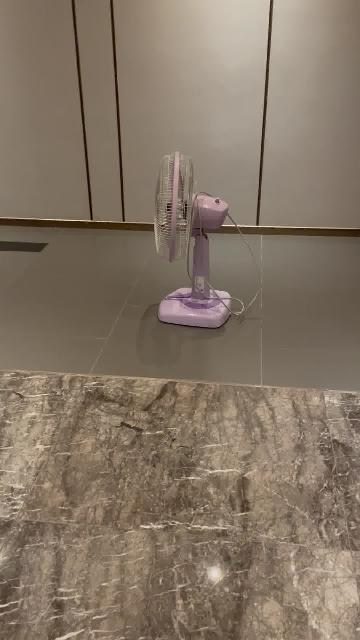Fan: (154, 151, 232, 329)
